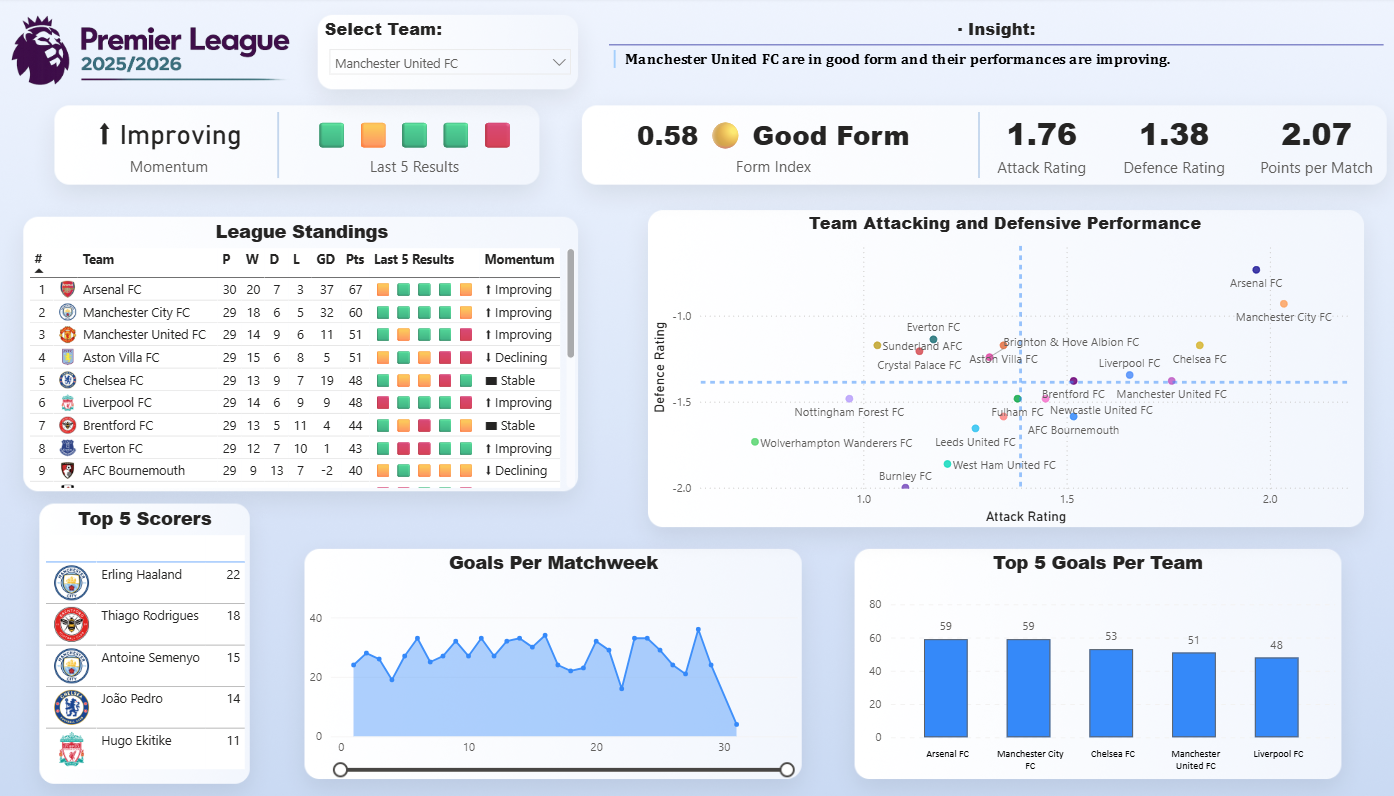

What the dashboard file says about the page in this screenshot:
{"tool":"powerbi","page":{"name":"Page 1","canvas":[1480,850],"ordinal":0},"visuals":[{"type":"tableEx","title":"League Standings","fields":{"Values":["Sum(fact_standings.position)","dimension_team.team_crest_url","dimension_team.team_name","fact_standings.Matches Played","fact_standings.Wins","fact_standings.Draws","fact_standings.Losses","fact_standings.Goal Difference","Sum(fact_standings.points)","fact_team_match_stats.Last 5 Results","fact_team_match_stats.Momentum"]},"box":[26.6,234.7,588.7,290.9],"z":0},{"type":"clusteredColumnChart","title":"Top 5 Goals Per Team","fields":{"Y":["fact_team_match_stats.Goals Scored Total"],"Category":["dimension_team.team_name"]},"box":[908.2,584.7,512.8,244.5],"z":1000},{"type":"tableEx","title":"Top 5 Scorers","fields":{"Values":["dimension_team.team_crest_url","dimension_player.player_name","fact_player_stats.Player Goals"]},"box":[43.3,538.9,222.2,296.7],"z":2000},{"type":"lineChart","title":"Goals Per Matchweek","fields":{"Category":["fact_team_match_stats.matchweek"],"Y":["fact_team_match_stats.Total Goals"]},"box":[324.4,584.7,526.6,244.5],"z":3000},{"type":"slicer","title":"Select Team:","fields":{"Values":["dimension_team.team_name"]},"box":[340.2,21.7,276.1,78.9],"z":4000},{"type":"card","fields":{"Values":["fact_team_match_stats.Attack Rating"]},"box":[1041.1,113.3,128.9,84.4],"z":5000},{"type":"card","fields":{"Values":["fact_team_match_stats.Defence Rating"]},"box":[1182.2,113.3,127.8,84.4],"z":6000},{"type":"card","fields":{"Values":["fact_team_match_stats.Points per Match"]},"box":[1325.6,113.3,141.1,84.4],"z":7000},{"type":"card","fields":{"Values":["fact_team_match_stats.Last 5 Results"]},"box":[323.3,115.6,234.4,83.3],"z":8000},{"type":"card","fields":{"Values":["fact_team_match_stats.Momentum"]},"box":[88.9,112.2,182.2,84.4],"z":9000},{"type":"card","fields":{"Values":["fact_team_match_stats.Form Index"]},"box":[622.1,114.5,397.4,84.8],"z":10000},{"type":"multiRowCard","title":"· Insight:","fields":{"Values":["fact_team_match_stats.Team Performance Insight"]},"box":[646.9,21.2,820.8,78.8],"z":11000},{"type":"scatterChart","title":"Team Attacking and Defensive Performance","fields":{"X":["fact_team_match_stats.Attack Rating"],"Category":["dimension_team.team_name"],"Series":["dimension_team.team_name"],"Y":["fact_team_match_stats.Defence Rating (Scatter)"]},"box":[687.3,226.8,759.3,336.3],"z":12000},{"type":"shape","box":[1000.5,121.9,76.3,70],"z":13000},{"type":"image","box":[0,0,321,115],"z":14000},{"type":"shape","box":[257.8,122.2,76.7,70],"z":15000}]}

Visuals, with their boxes in screenshot pixels (x1, y1, x2, y2), scaled from the page's 1480x850 canvas onto the 1394x796 screenshot:
"League Standings" tableEx: box(25, 220, 580, 492)
"Top 5 Goals Per Team" clusteredColumnChart: box(855, 548, 1338, 777)
"Top 5 Scorers" tableEx: box(41, 505, 250, 783)
"Goals Per Matchweek" lineChart: box(306, 548, 802, 777)
"Select Team:" slicer: box(320, 20, 580, 94)
card - fact_team_match_stats.Attack Rating: box(981, 106, 1102, 185)
card - fact_team_match_stats.Defence Rating: box(1114, 106, 1234, 185)
card - fact_team_match_stats.Points per Match: box(1249, 106, 1381, 185)
card - fact_team_match_stats.Last 5 Results: box(305, 108, 525, 186)
card - fact_team_match_stats.Momentum: box(84, 105, 255, 184)
card - fact_team_match_stats.Form Index: box(586, 107, 960, 187)
"· Insight:" multiRowCard: box(609, 20, 1382, 94)
"Team Attacking and Defensive Performance" scatterChart: box(647, 212, 1363, 527)
shape: box(942, 114, 1014, 180)
image: box(0, 0, 302, 108)
shape: box(243, 114, 315, 180)
